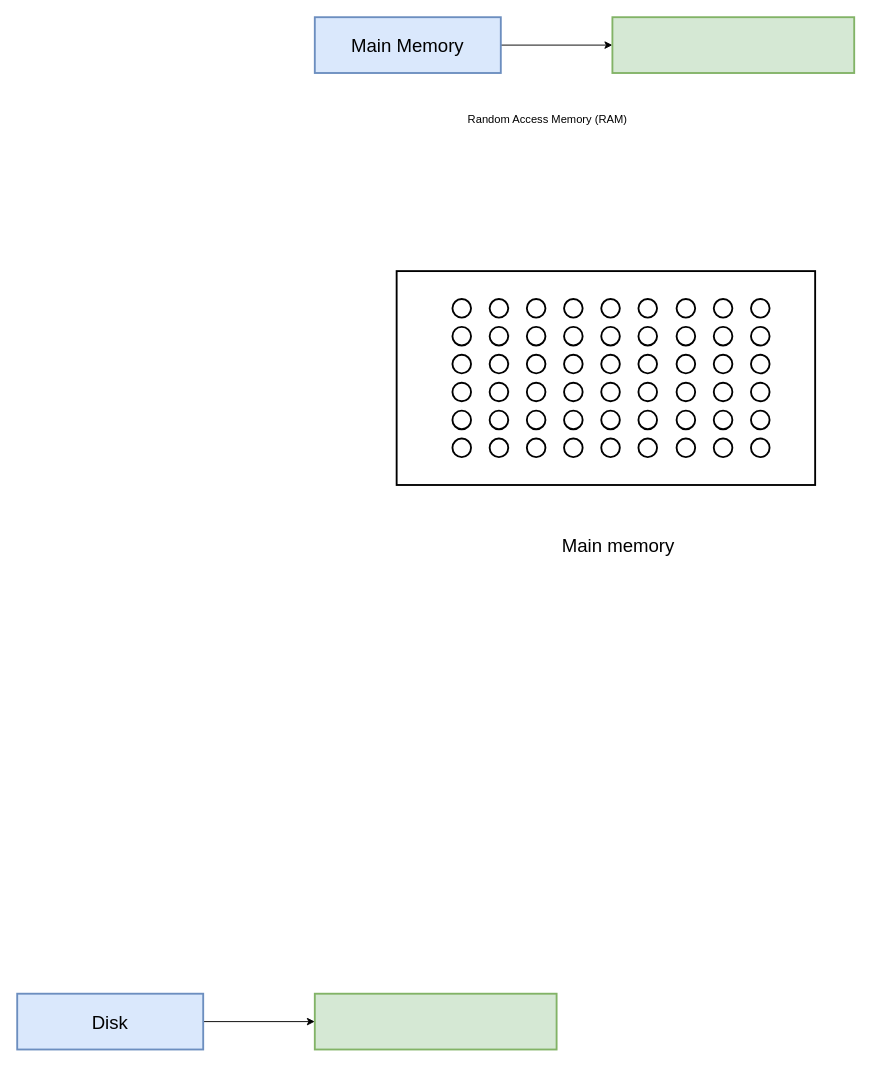
Image size: 870x1066. Some labels were removed from this diagram. The centre of each missing label's shape, as x and y in pixels:
Random access (随机访问): the point at 733,44
Sequential access （顺序访问）: the point at 435,1021
